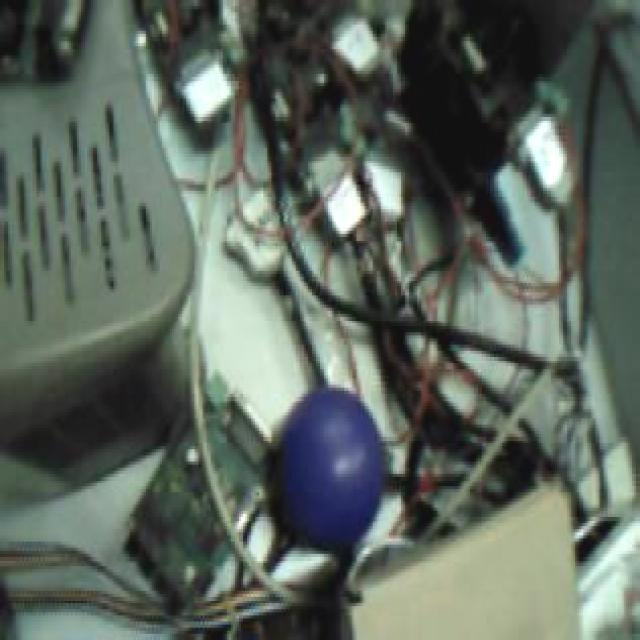BallPurple: (276, 386, 380, 538)
